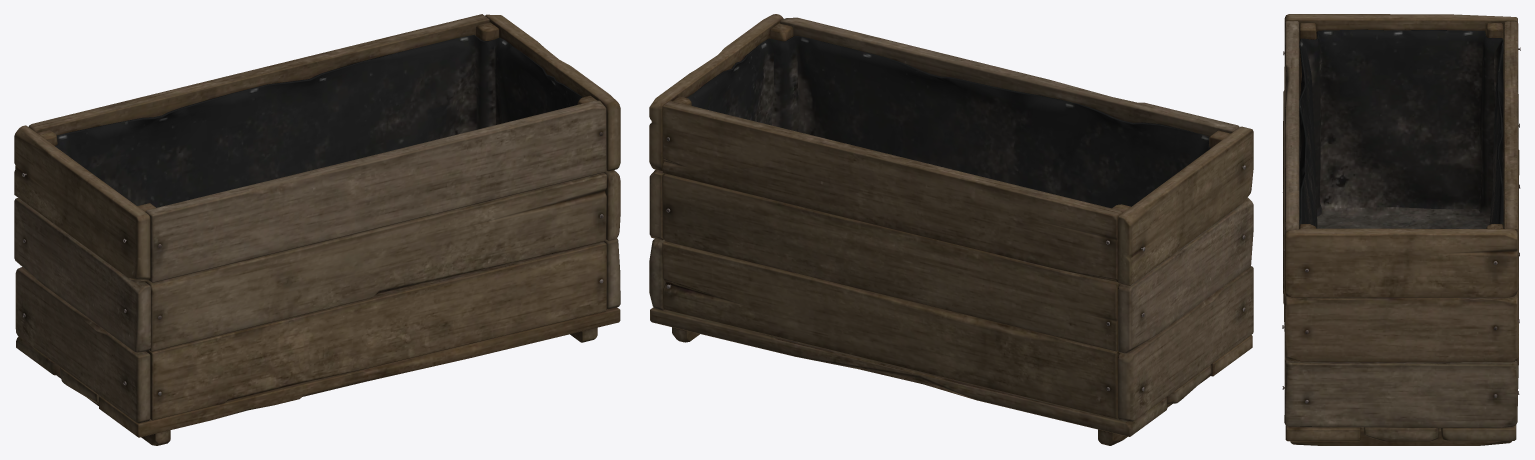
The model's file is planter-box.glb.
3 renders of one model, left to right at view 1: azimuth 30°, elevation 25°; view 2: azimuth 150°, elevation 25°; view 3: azimuth 270°, elevation 25°, orthographic. The views are drawn at different scales.
Visible parts, largest first — view 1: planter_box_01; view 2: planter_box_01; view 3: planter_box_01.
Boxes of the visible parts, bbox=[...] form: planter_box_01: bbox=[14, 14, 620, 445]; planter_box_01: bbox=[649, 14, 1253, 445]; planter_box_01: bbox=[1282, 14, 1520, 445].
Bounding box in the file's own units: 0.9126 × 0.4249 × 0.4137.
Materials: 1 (1 with a texture image).
